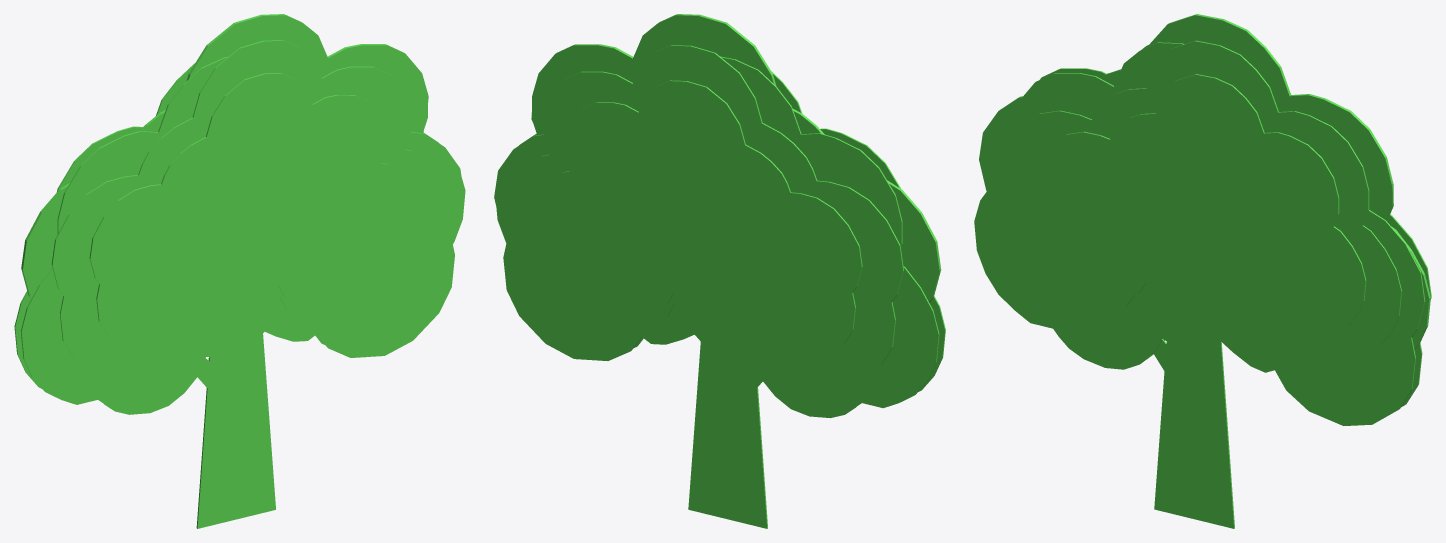
Rendered from arbre1.fbx.
3 renders of one model, left to right at view 1: azimuth 30°, elevation 25°; view 2: azimuth 150°, elevation 25°; view 3: azimuth 330°, elevation 25°, orthographic.
Visible parts, largest first — view 1: feuilles, tronc.002; view 2: feuilles, tronc.002; view 3: feuilles, tronc.002.
Part boxes in pixels (x1,y1,x2,y2): feuilles: [14, 14, 465, 414]; tronc.002: [196, 334, 275, 528]; feuilles: [494, 14, 945, 418]; tronc.002: [688, 342, 767, 528]; feuilles: [974, 14, 1431, 425]; tronc.002: [1154, 339, 1234, 528].
Bounding box in the file's own units: 124 × 132 × 10.32.
